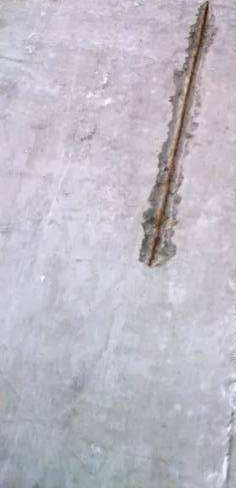Exposed reinforcement: (148, 1, 208, 266)
Spalling: (137, 1, 217, 269)
